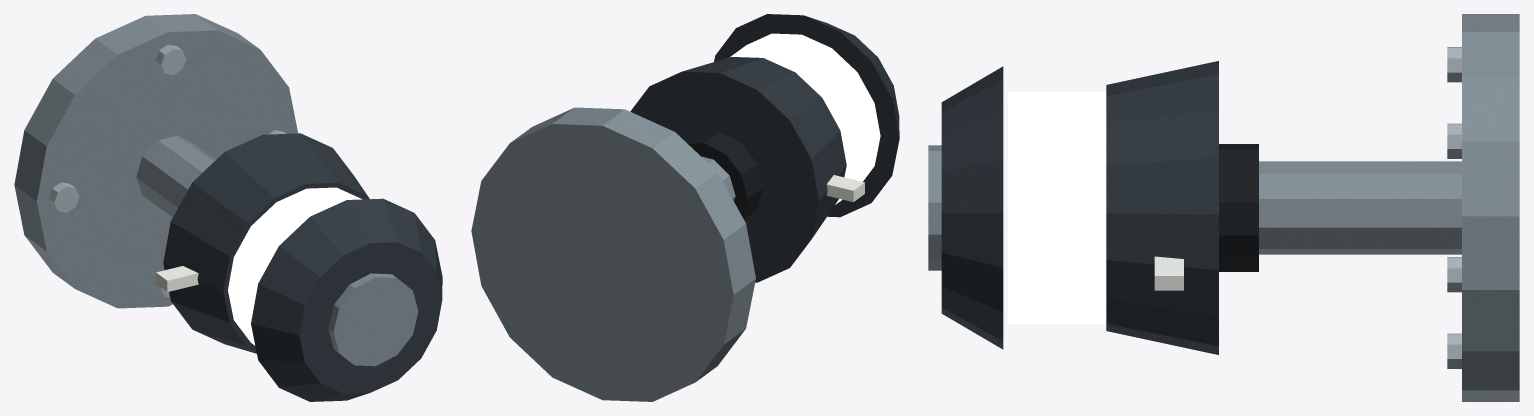
The model's file is PZ_Runway_Edge_White.glb.
The picture shows the model from 3 angles, left to right: view 1: azimuth 30°, elevation 25°; view 2: azimuth 150°, elevation 25°; view 3: azimuth 270°, elevation 25°; orthographic projection. The views are drawn at different scales.
Parts seen in each view (by area): view 1: PZ_Runway_Edge_White__Footplate_DieCast, PZ_Runway_Edge_White__Top_WeatherCap, PZ_Runway_Edge_White__Optic_LowerHousing, PZ_Runway_Edge_White__Cap_Crown, PZ_Runway_Edge_White__Optic_Lens_white_lens, PZ_Runway_Edge_White__Frangible_Stem, PZ_Runway_Edge_White; view 2: PZ_Runway_Edge_White__Footplate_DieCast, PZ_Runway_Edge_White__Optic_LowerHousing, PZ_Runway_Edge_White__Optic_Lens_white_lens, PZ_Runway_Edge_White__Top_WeatherCap, PZ_Runway_Edge_White__Stem_Seal, PZ_Runway_Edge_White; view 3: PZ_Runway_Edge_White__Optic_LowerHousing, PZ_Runway_Edge_White__Optic_Lens_white_lens, PZ_Runway_Edge_White__Footplate_DieCast, PZ_Runway_Edge_White__Frangible_Stem, PZ_Runway_Edge_White__Top_WeatherCap, PZ_Runway_Edge_White__Stem_Seal, PZ_Runway_Edge_White, PZ_Runway_Edge_White__Cap_Crown.
Part boxes in pixels (<box>): PZ_Runway_Edge_White__Footplate_DieCast: <box>14,14,297,308</box>; PZ_Runway_Edge_White__Top_WeatherCap: <box>251,198,442,401</box>; PZ_Runway_Edge_White__Optic_LowerHousing: <box>163,133,369,353</box>; PZ_Runway_Edge_White__Cap_Crown: <box>328,273,418,366</box>; PZ_Runway_Edge_White__Optic_Lens_white_lens: <box>228,187,361,345</box>; PZ_Runway_Edge_White__Frangible_Stem: <box>136,135,215,217</box>; PZ_Runway_Edge_White: <box>48,44,285,297</box>; PZ_Runway_Edge_White__Footplate_DieCast: <box>471,107,755,401</box>; PZ_Runway_Edge_White__Optic_LowerHousing: <box>630,57,846,282</box>; PZ_Runway_Edge_White__Optic_Lens_white_lens: <box>730,33,880,204</box>; PZ_Runway_Edge_White__Top_WeatherCap: <box>714,14,899,217</box>; PZ_Runway_Edge_White__Stem_Seal: <box>685,131,762,219</box>; PZ_Runway_Edge_White: <box>826,175,864,201</box>; PZ_Runway_Edge_White__Optic_LowerHousing: <box>1106,61,1218,354</box>; PZ_Runway_Edge_White__Optic_Lens_white_lens: <box>1008,91,1106,324</box>; PZ_Runway_Edge_White__Footplate_DieCast: <box>1462,14,1519,401</box>; PZ_Runway_Edge_White__Frangible_Stem: <box>1259,161,1461,254</box>; PZ_Runway_Edge_White__Top_WeatherCap: <box>941,66,1003,349</box>; PZ_Runway_Edge_White__Stem_Seal: <box>1219,144,1258,271</box>; PZ_Runway_Edge_White: <box>1154,47,1461,368</box>; PZ_Runway_Edge_White__Cap_Crown: <box>928,145,941,270</box>.
Bounding box in the file's own units: 0.29 × 0.29 × 0.4415.
Materials: 2 (2 with a texture image).
